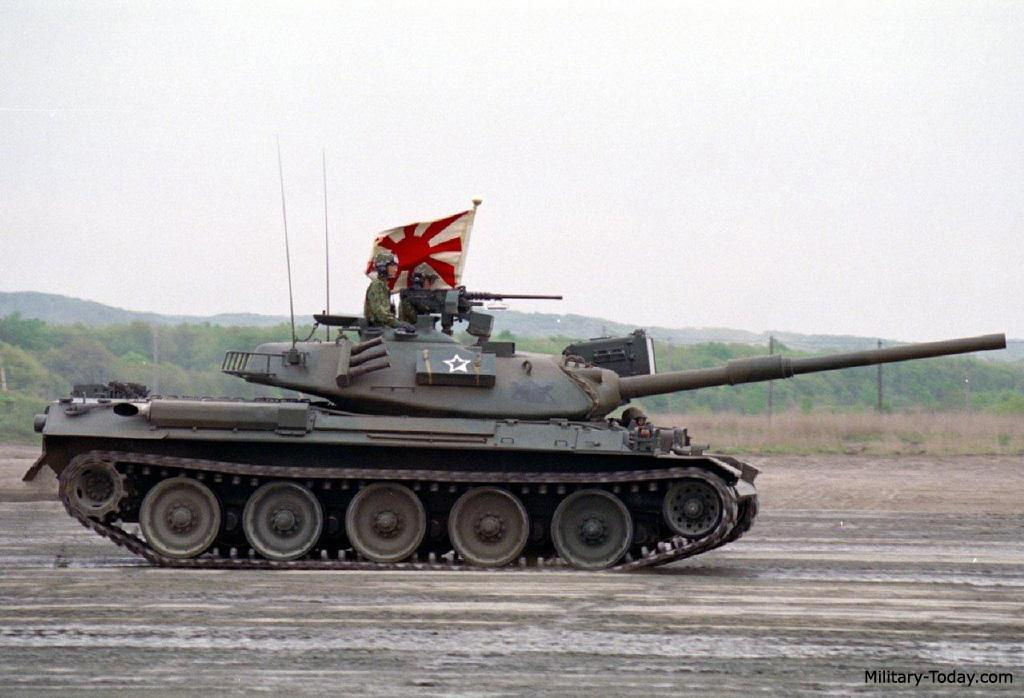tank: (22, 289, 1010, 573)
